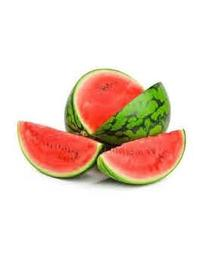watermelon: (67, 66, 171, 156), (14, 118, 104, 179), (96, 129, 187, 187)
